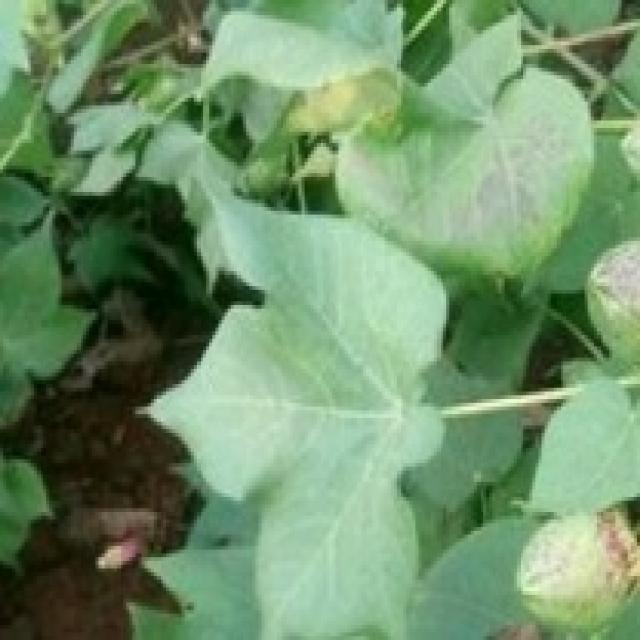Healthy Leaf: (89, 18, 640, 567)
